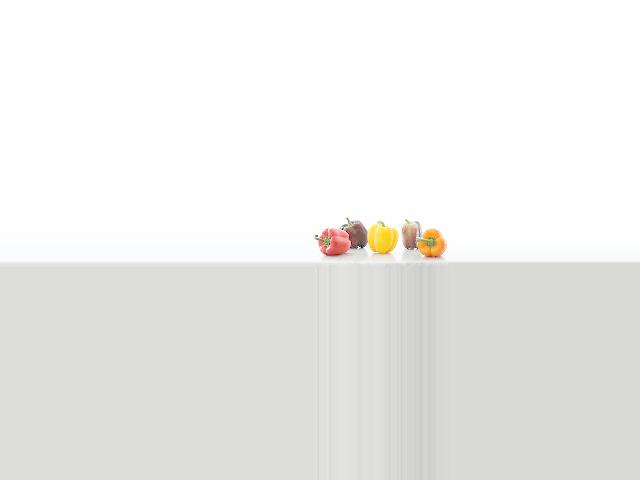bell_pepper: (415, 218, 447, 260)
